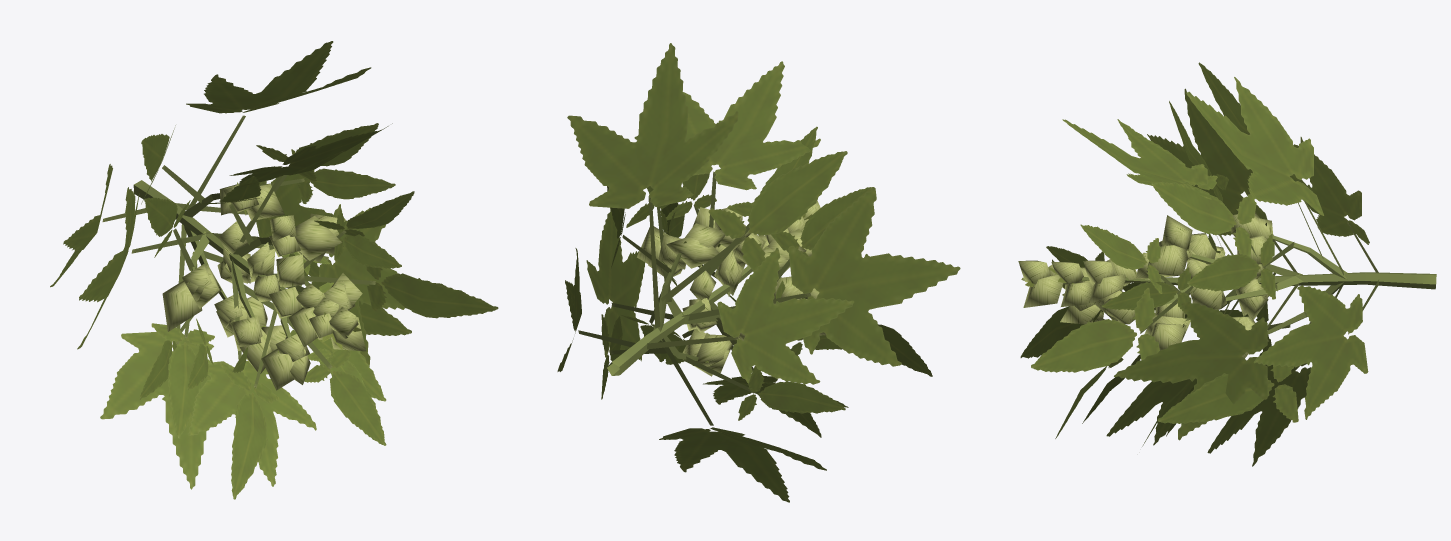
The model's file is p_male_auto_flowering_c1_cards.obj.
3 views of the same model, side by side, from view 1: azimuth 30°, elevation 25°; view 2: azimuth 150°, elevation 25°; view 3: azimuth 270°, elevation 25° (orthographic).
Bounding box in the file's own units: 1.12 × 1.32 × 0.988.
1 material, 1 textured.
